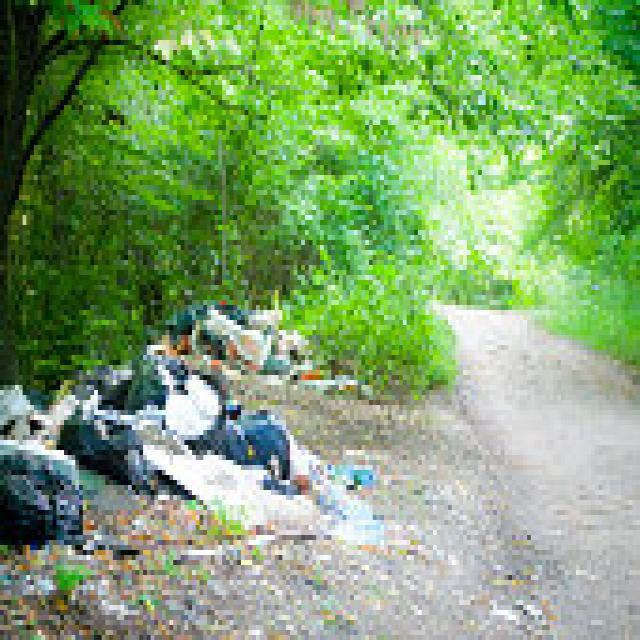garbage: (198, 298, 312, 390), (0, 435, 87, 550), (60, 405, 151, 497), (222, 402, 300, 494), (133, 347, 195, 405)
